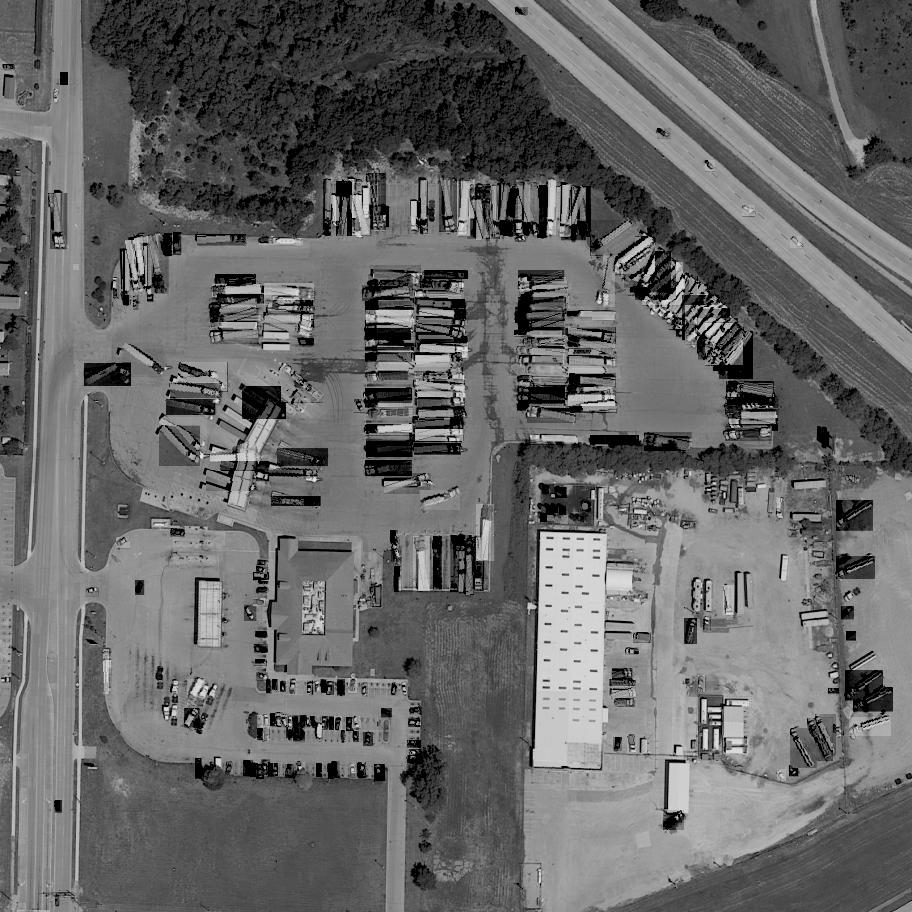large-vehicle: (642, 263, 685, 307), (669, 285, 710, 330), (682, 295, 722, 341), (630, 251, 672, 294), (685, 306, 730, 346), (610, 237, 656, 276), (698, 318, 740, 360), (635, 260, 678, 301), (158, 426, 201, 467), (650, 271, 687, 318), (719, 331, 755, 379), (281, 363, 324, 403), (705, 323, 744, 366), (591, 220, 637, 256), (676, 292, 711, 339), (667, 276, 699, 326), (159, 418, 209, 450), (561, 187, 589, 243), (178, 362, 228, 393), (242, 387, 287, 421), (624, 236, 653, 288), (713, 328, 747, 372), (697, 310, 731, 353), (121, 343, 164, 377), (662, 273, 690, 321), (467, 184, 491, 240), (516, 181, 540, 235), (348, 182, 371, 237), (845, 671, 884, 703), (836, 501, 876, 532), (149, 235, 170, 294), (451, 535, 472, 592), (264, 315, 313, 339), (807, 718, 834, 761), (367, 173, 387, 231), (125, 240, 146, 295), (84, 364, 133, 387), (790, 728, 818, 768), (518, 387, 566, 410), (342, 179, 362, 233), (853, 687, 894, 713), (568, 334, 616, 356), (210, 298, 258, 320), (384, 474, 432, 496), (725, 397, 780, 416), (519, 314, 566, 336), (519, 379, 568, 400), (266, 307, 315, 328), (221, 462, 270, 483), (373, 265, 422, 286), (438, 178, 457, 232), (51, 193, 69, 250), (206, 472, 257, 492), (416, 321, 464, 342), (418, 385, 466, 406), (413, 536, 431, 592), (477, 505, 495, 561), (835, 556, 877, 580), (369, 274, 414, 296), (336, 182, 354, 237), (366, 321, 413, 342), (211, 309, 260, 329), (574, 186, 593, 237), (264, 283, 315, 302), (414, 368, 464, 387), (420, 490, 463, 512), (816, 714, 838, 757), (519, 270, 566, 290), (644, 432, 693, 451), (415, 423, 464, 442), (277, 449, 328, 467), (528, 407, 576, 426), (365, 303, 413, 322), (135, 237, 152, 289), (420, 341, 469, 359), (210, 327, 259, 345), (479, 186, 497, 235), (365, 331, 416, 348), (729, 407, 777, 425), (418, 276, 463, 295), (515, 307, 565, 324), (458, 181, 473, 237), (849, 717, 893, 736), (519, 297, 568, 314), (568, 327, 617, 344), (568, 391, 616, 408), (366, 441, 414, 458), (366, 313, 414, 330), (504, 186, 520, 237), (167, 399, 216, 415), (170, 384, 222, 399), (568, 382, 616, 398), (419, 305, 467, 321), (725, 426, 773, 442), (727, 381, 775, 397), (365, 388, 413, 404), (363, 286, 411, 302), (471, 537, 485, 591), (366, 460, 413, 476), (517, 346, 567, 361), (519, 281, 569, 296), (521, 290, 569, 305), (212, 284, 262, 298), (604, 254, 617, 307), (498, 183, 511, 236), (416, 380, 465, 394), (524, 335, 566, 351), (727, 391, 775, 405), (415, 417, 464, 430), (366, 298, 415, 311), (561, 185, 573, 238), (369, 407, 414, 421), (569, 374, 617, 387), (569, 356, 617, 369), (730, 418, 778, 431), (198, 234, 246, 247), (418, 398, 466, 411), (416, 353, 463, 366), (414, 444, 461, 457), (367, 370, 410, 384), (537, 185, 548, 238), (268, 303, 316, 315), (365, 424, 413, 436), (570, 402, 617, 414), (419, 408, 466, 420), (215, 275, 257, 288), (271, 496, 320, 507), (547, 179, 556, 235), (188, 679, 207, 705), (590, 436, 639, 446), (434, 536, 443, 590), (492, 186, 501, 239), (418, 299, 465, 309), (218, 295, 264, 305), (366, 353, 412, 363), (663, 811, 686, 831), (531, 435, 576, 445), (519, 356, 564, 366), (323, 179, 331, 235), (517, 376, 565, 385), (466, 541, 474, 595), (365, 400, 413, 409), (418, 318, 465, 327), (415, 291, 462, 300), (611, 686, 638, 701), (274, 296, 314, 306), (424, 271, 468, 280), (211, 453, 260, 461), (331, 195, 344, 225), (421, 180, 428, 234), (210, 322, 257, 330), (684, 618, 698, 644), (723, 585, 734, 616), (517, 404, 565, 411), (568, 311, 616, 318), (147, 246, 153, 301), (421, 336, 467, 343), (185, 708, 200, 729), (103, 649, 110, 694), (259, 238, 303, 245), (612, 668, 633, 682), (269, 470, 317, 476), (124, 252, 129, 305), (569, 349, 612, 355), (412, 437, 462, 442), (365, 345, 413, 350), (515, 331, 562, 336), (380, 206, 390, 228), (634, 632, 651, 644), (615, 698, 635, 708), (411, 202, 418, 230), (365, 191, 371, 220), (315, 723, 324, 741), (612, 681, 635, 687), (777, 497, 784, 516), (300, 339, 314, 346), (113, 279, 118, 297)
small-vehicle: (173, 232, 183, 256), (244, 605, 258, 621), (627, 735, 638, 754), (841, 606, 855, 620), (348, 679, 360, 695), (391, 547, 403, 563), (243, 760, 254, 777), (165, 233, 173, 256), (742, 205, 756, 218), (838, 554, 850, 569), (116, 538, 131, 550), (261, 760, 272, 776), (363, 732, 374, 748), (350, 763, 360, 780), (407, 755, 424, 765), (657, 129, 672, 140), (136, 581, 147, 596), (346, 717, 356, 733), (375, 765, 385, 781), (790, 237, 803, 249), (354, 400, 365, 414), (170, 529, 185, 539), (225, 762, 235, 777), (334, 716, 344, 731), (289, 679, 298, 695), (332, 761, 340, 779), (254, 644, 268, 654), (625, 646, 639, 656), (613, 738, 623, 752), (380, 708, 394, 718), (338, 679, 346, 696), (699, 675, 707, 692), (326, 681, 335, 696), (250, 763, 259, 778), (358, 763, 367, 778), (704, 161, 716, 172), (777, 769, 787, 782), (253, 572, 269, 580), (275, 712, 283, 728), (257, 715, 266, 729), (390, 683, 399, 697), (85, 588, 99, 597), (352, 716, 361, 730), (299, 715, 308, 729), (292, 715, 301, 729), (280, 714, 289, 728), (268, 763, 277, 777), (285, 765, 294, 779), (790, 765, 800, 777), (254, 586, 269, 594), (257, 564, 269, 574), (48, 193, 56, 208), (320, 679, 328, 694), (256, 673, 269, 682), (845, 632, 858, 641), (408, 719, 421, 728), (60, 72, 68, 86), (297, 761, 305, 775), (516, 7, 528, 16), (264, 726, 271, 741), (257, 764, 264, 779), (514, 235, 527, 243), (410, 707, 423, 715), (532, 223, 539, 237), (293, 727, 300, 741), (254, 599, 266, 607), (390, 531, 398, 543), (55, 801, 63, 813), (196, 759, 201, 778), (314, 681, 321, 694), (270, 713, 277, 726), (362, 682, 368, 697), (134, 296, 140, 310), (402, 682, 408, 696), (266, 680, 272, 694), (704, 617, 710, 631), (408, 740, 420, 747), (316, 764, 322, 777), (286, 728, 293, 739), (255, 631, 267, 637), (280, 681, 286, 693), (257, 728, 263, 740), (264, 714, 270, 726), (394, 566, 399, 580), (306, 716, 313, 726), (323, 717, 328, 730), (1, 678, 11, 684), (329, 764, 333, 779), (308, 681, 312, 695), (288, 716, 292, 730), (3, 65, 14, 70), (255, 660, 266, 665), (394, 581, 399, 592), (341, 730, 346, 741), (410, 750, 421, 755), (330, 717, 334, 730), (273, 680, 278, 690), (354, 732, 359, 742), (258, 581, 269, 585), (54, 90, 58, 101), (847, 476, 854, 482), (829, 689, 839, 693), (300, 729, 303, 742), (312, 717, 315, 726), (276, 763, 278, 776)
storage-tank: (555, 487, 568, 499), (583, 502, 592, 513), (547, 506, 556, 516), (560, 515, 568, 525), (542, 485, 549, 494), (554, 516, 561, 524), (547, 514, 554, 521), (585, 515, 591, 523), (541, 514, 547, 521), (559, 507, 565, 514), (580, 517, 584, 522), (541, 507, 545, 512), (554, 507, 557, 513), (573, 517, 577, 521)
